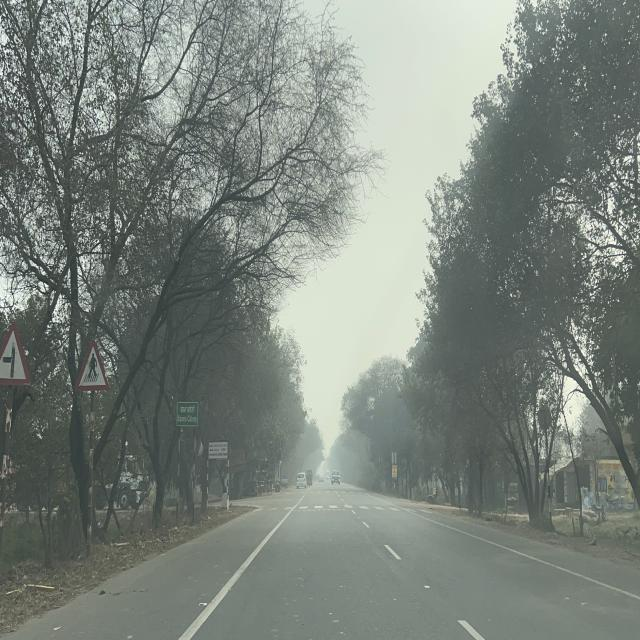GENERAL: (176, 398, 200, 428)
PEDESTRIAN_CROSSING: (75, 338, 112, 392)
SIDE_ROAD_LEFT: (1, 319, 32, 387)
